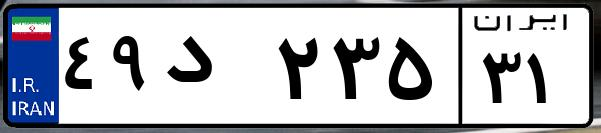1: (525, 38, 570, 115)
2: (270, 28, 330, 110)
3: (330, 28, 385, 110), (475, 38, 525, 113)
4: (57, 26, 110, 100)
5: (385, 28, 445, 110)
9: (110, 28, 158, 98)
د: (158, 20, 270, 120)
